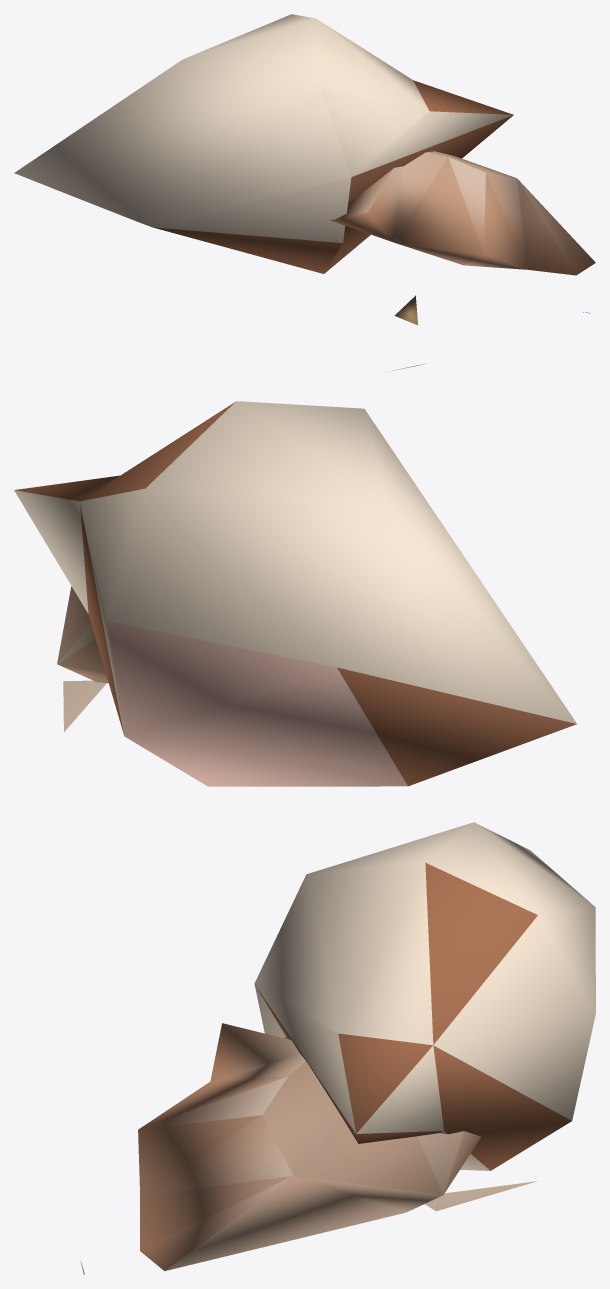
Rendered from shore_gc_shells_c_lod2.glb.
3 renders of one model, top to bottom at view 1: azimuth 30°, elevation 25°; view 2: azimuth 150°, elevation 25°; view 3: azimuth 270°, elevation 25°, orthographic. The views are drawn at different scales.
Visible parts, largest first — view 1: shore_gc_shells_c.001; view 2: shore_gc_shells_c.001; view 3: shore_gc_shells_c.001.
Part boxes in pixels (x1,y1,x2,y2): shore_gc_shells_c.001: [14, 14, 595, 371]; shore_gc_shells_c.001: [14, 401, 576, 786]; shore_gc_shells_c.001: [80, 822, 595, 1274].
Size of the model in its own units: 2.02 by 1.03 by 1.71.
